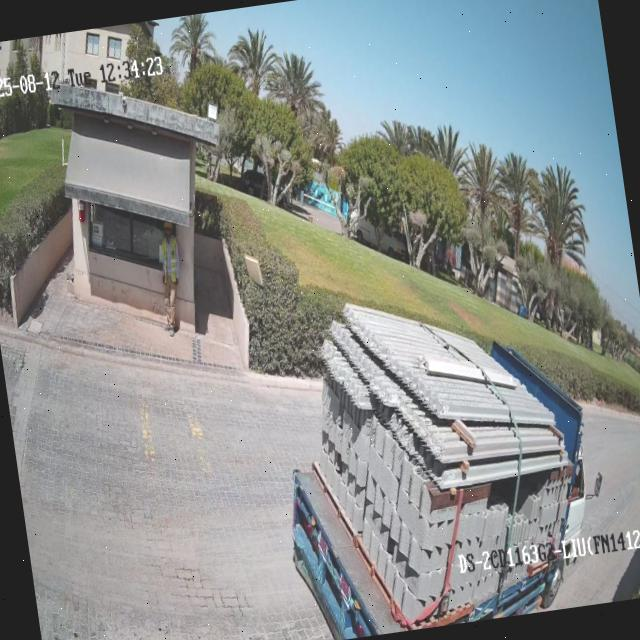bricks: (318, 304, 572, 623)
